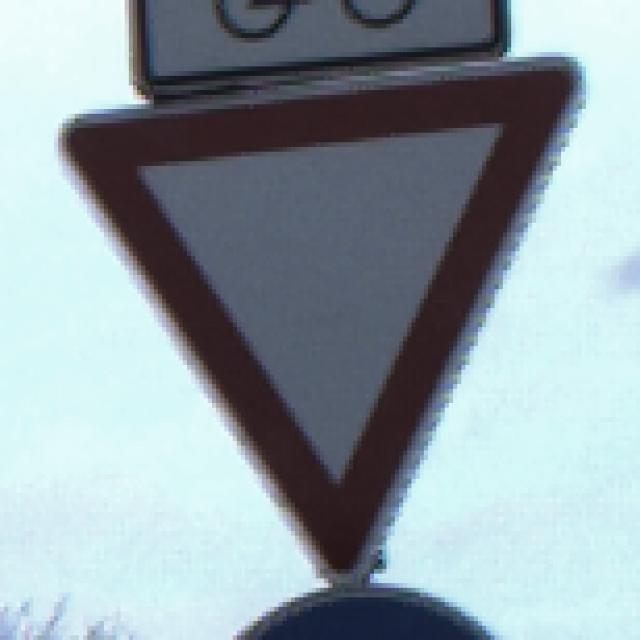Give Way: (55, 53, 587, 589)
